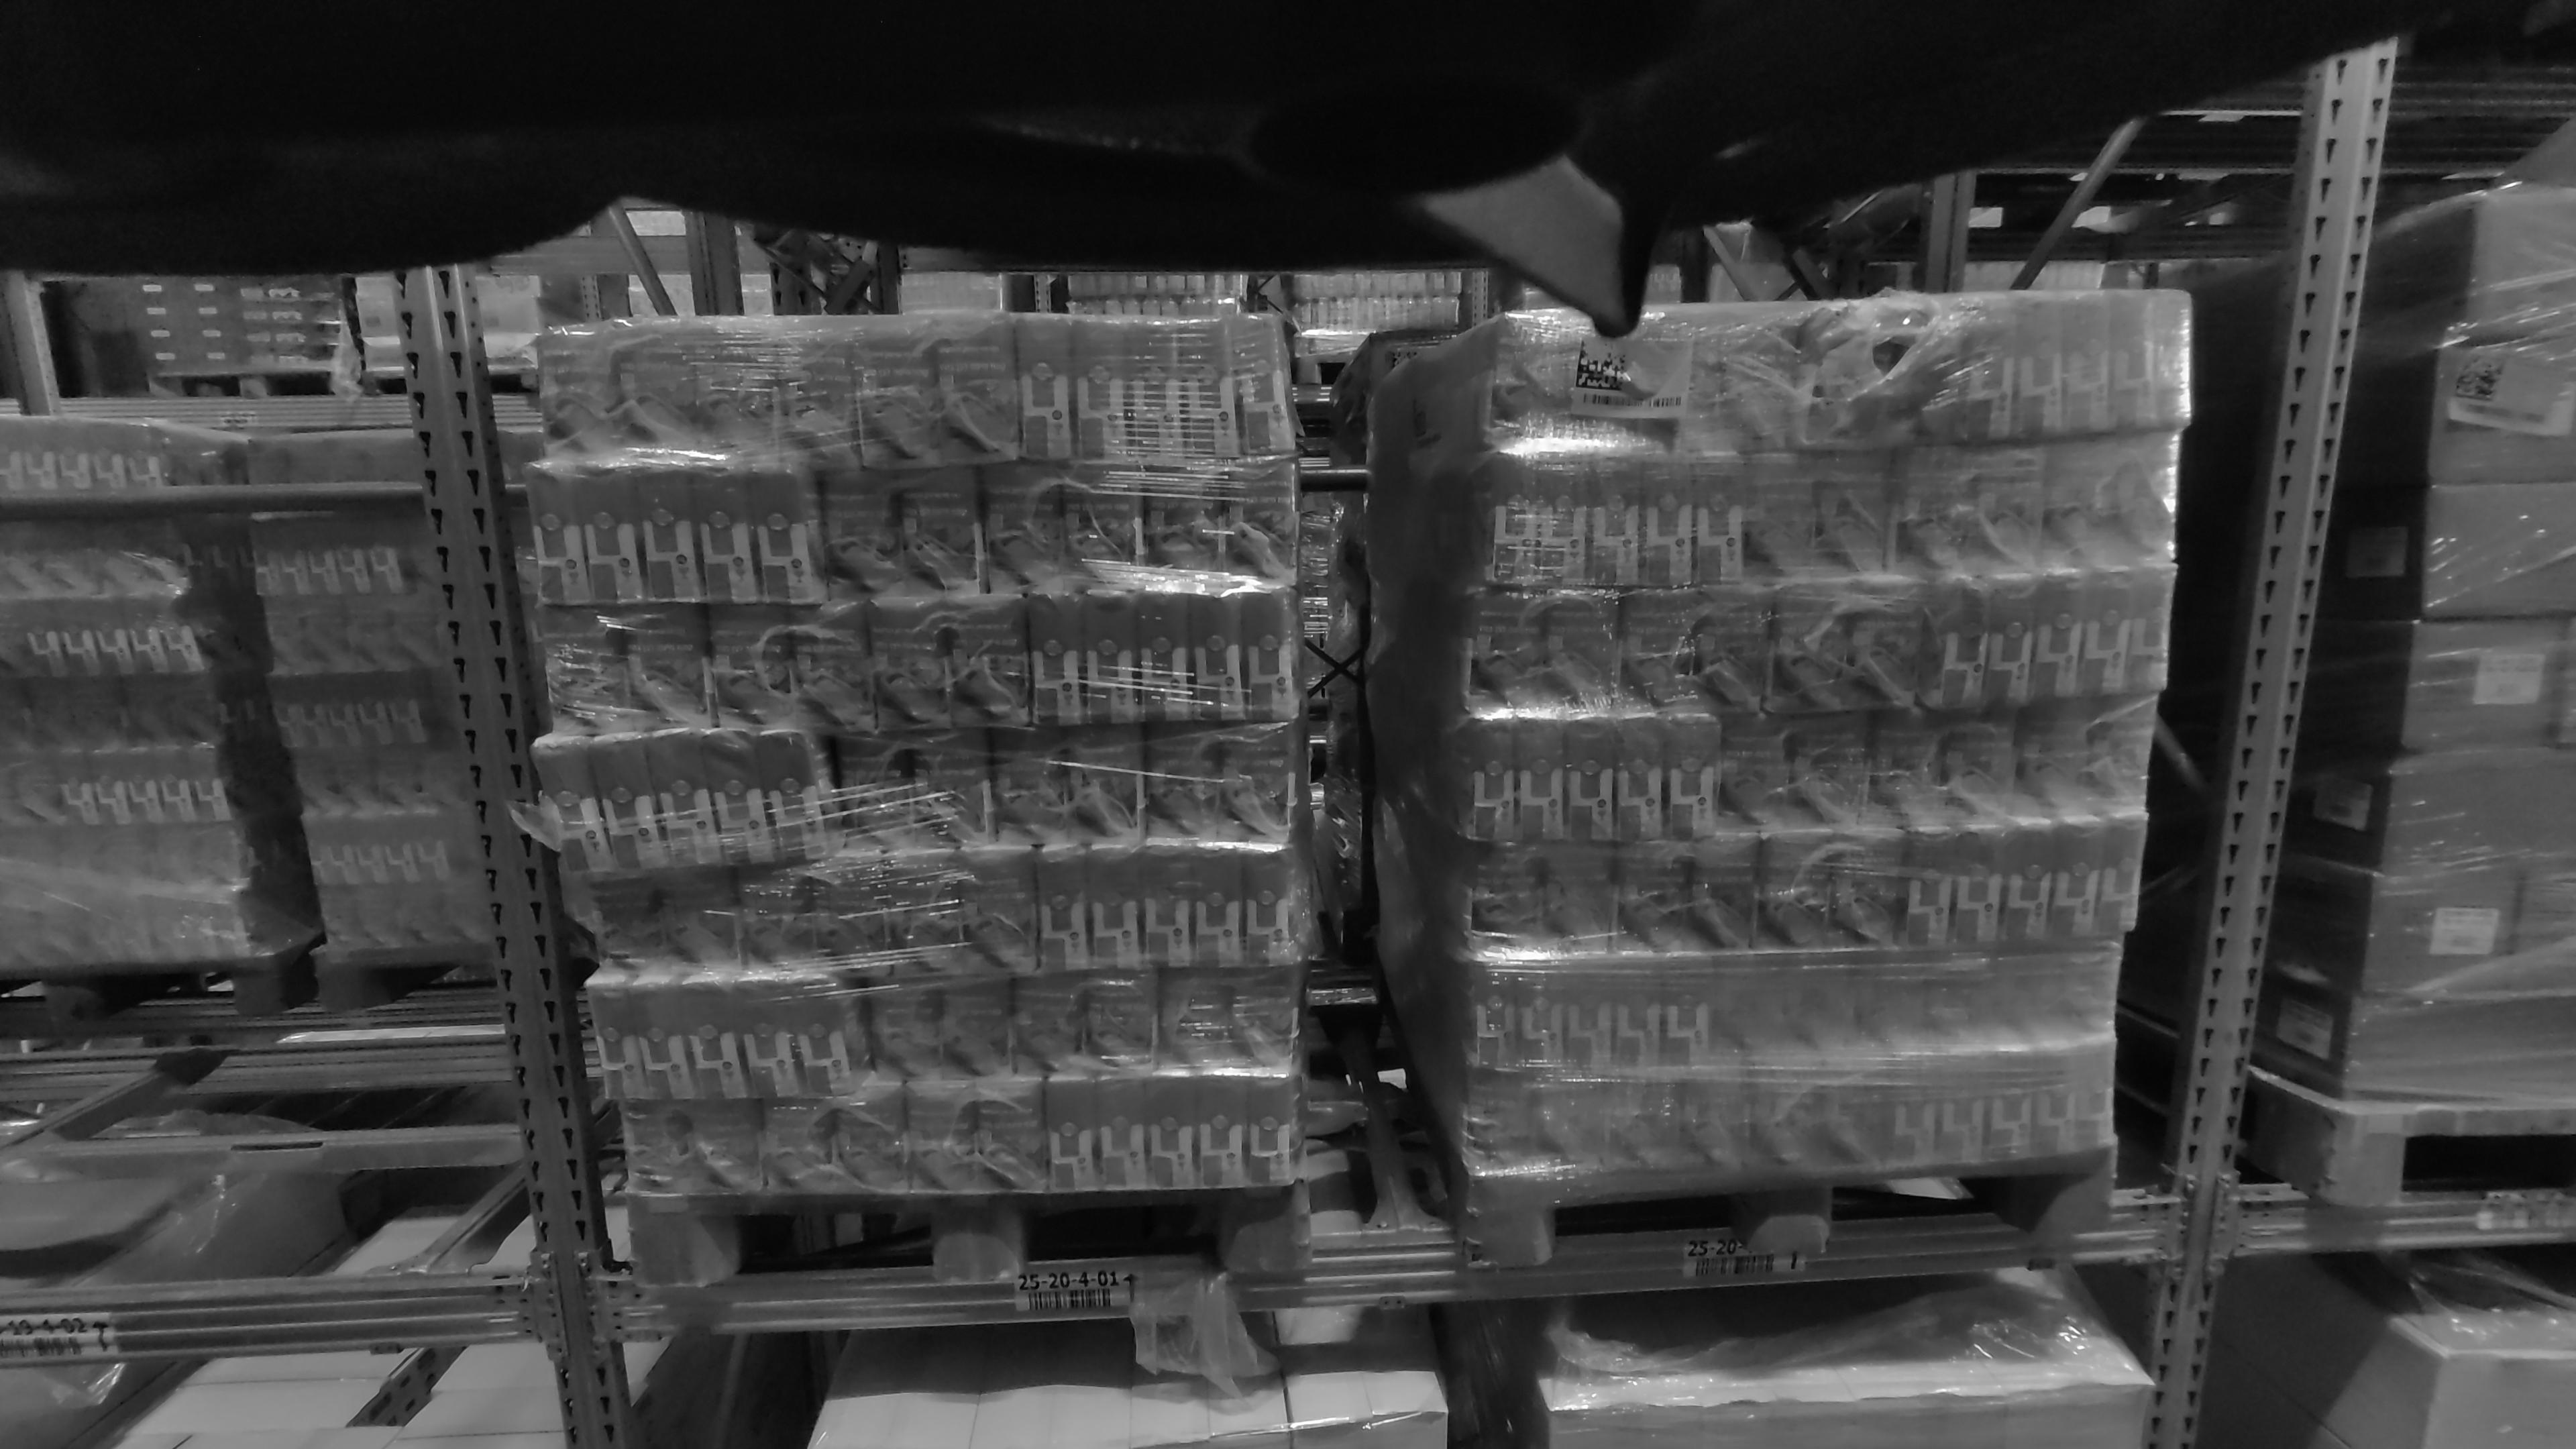empty-shelf: (0, 203, 494, 1261)
